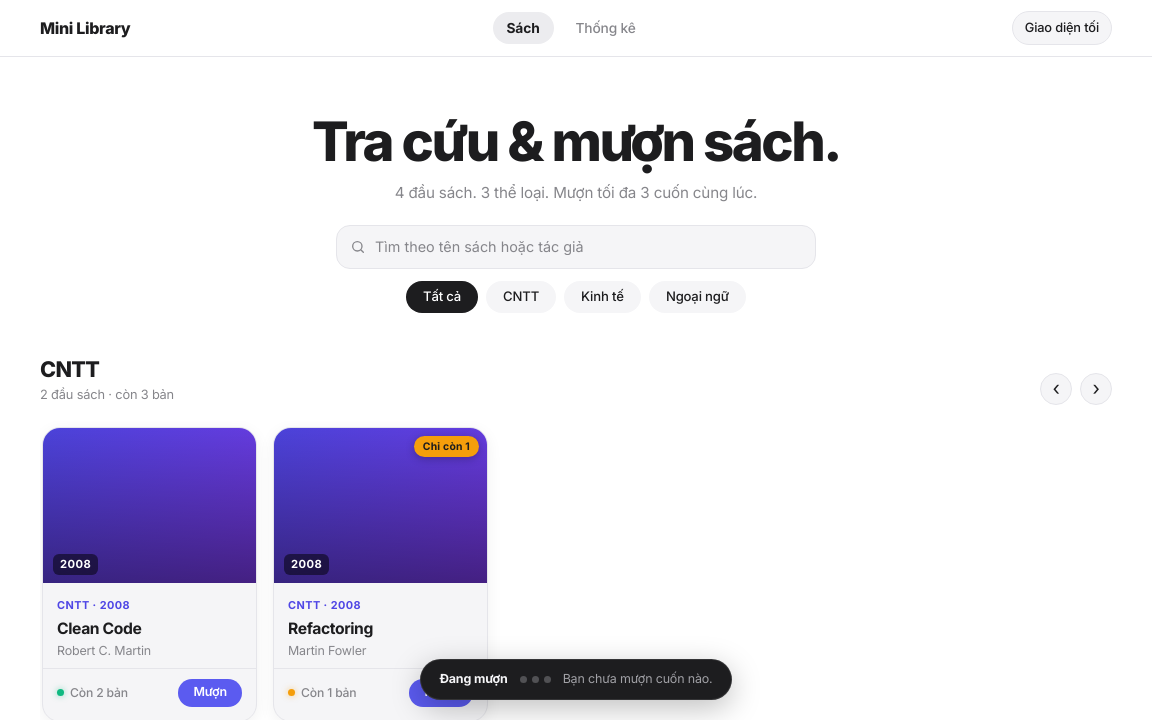
Test: App (integration) › tìm kiếm theo tác giả không phân biệt hoa thường (sau debounce)
Check: the heading "Clean Code" is shown, box [57,619,141,638]
Type "FOWLER" into the search field named "Tìm kiếm sách".
click(576, 247); type("FOWLER")  # box [336,225,816,269]
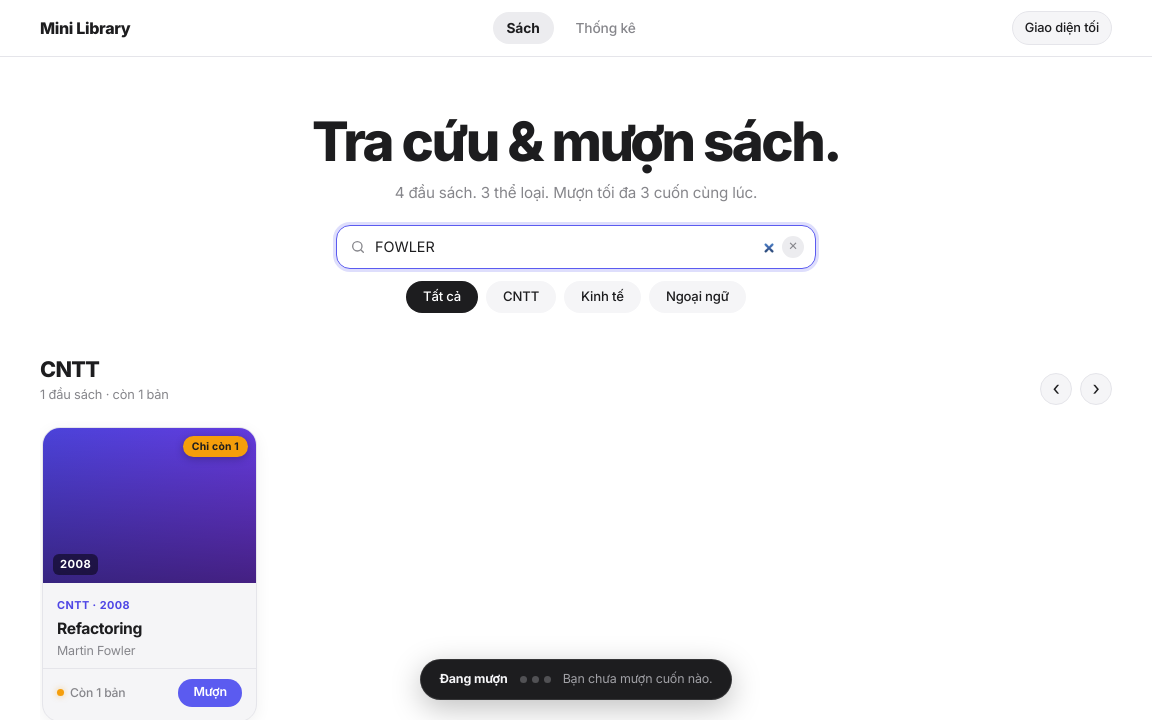
Check: the heading "Refactoring" is shown, box [57,619,142,638]
Check: the heading "Clean Code" is gone
